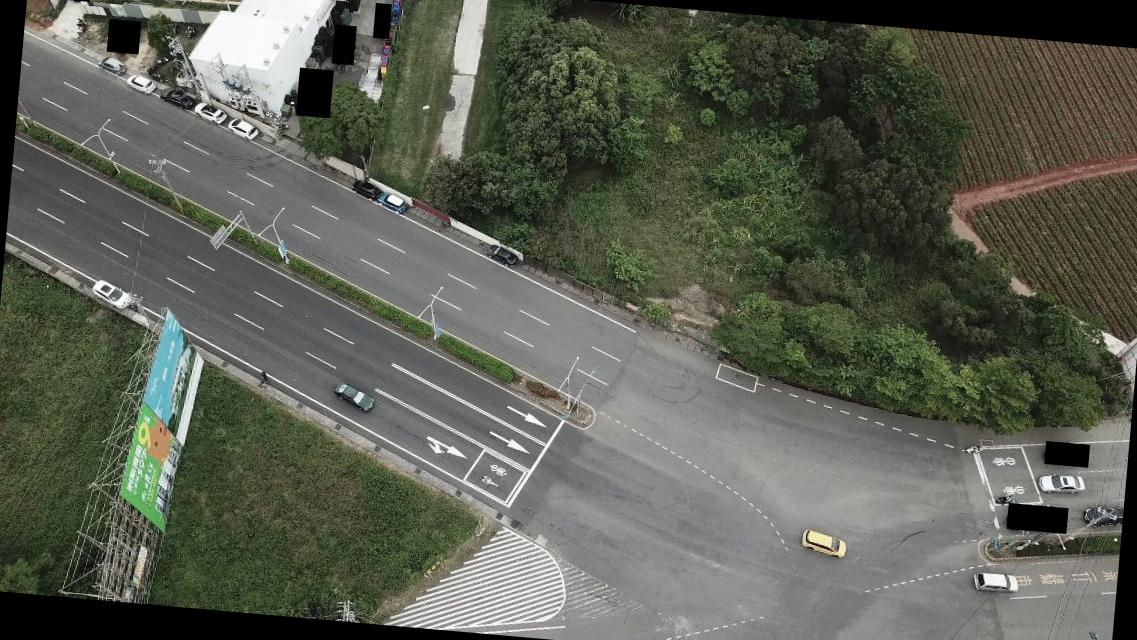vehicle: (798, 527, 848, 559), (330, 380, 374, 412), (90, 278, 132, 310), (1036, 472, 1086, 498), (972, 571, 1018, 593), (482, 242, 518, 268), (1083, 503, 1123, 526), (158, 86, 194, 110), (192, 102, 226, 125), (226, 118, 258, 140), (350, 179, 380, 202), (124, 74, 154, 95), (378, 192, 406, 214), (99, 58, 127, 74)
